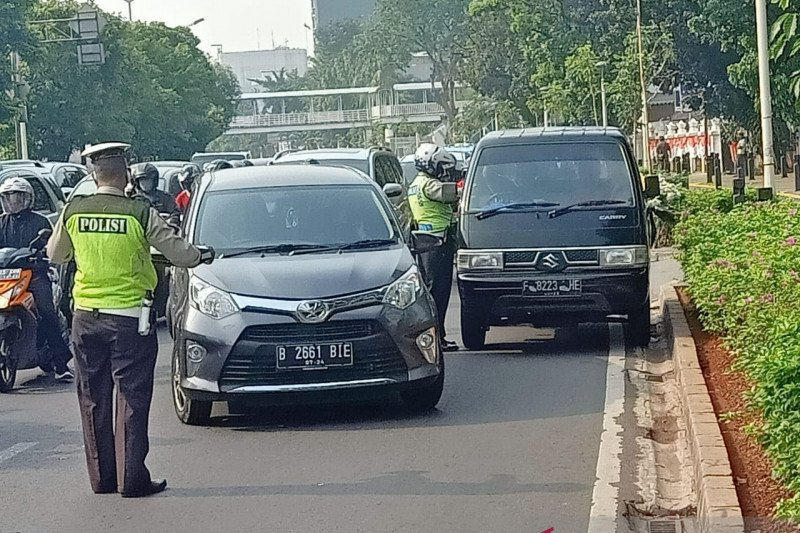plate: (275, 344, 355, 368), (523, 281, 581, 297), (1, 270, 20, 281)
